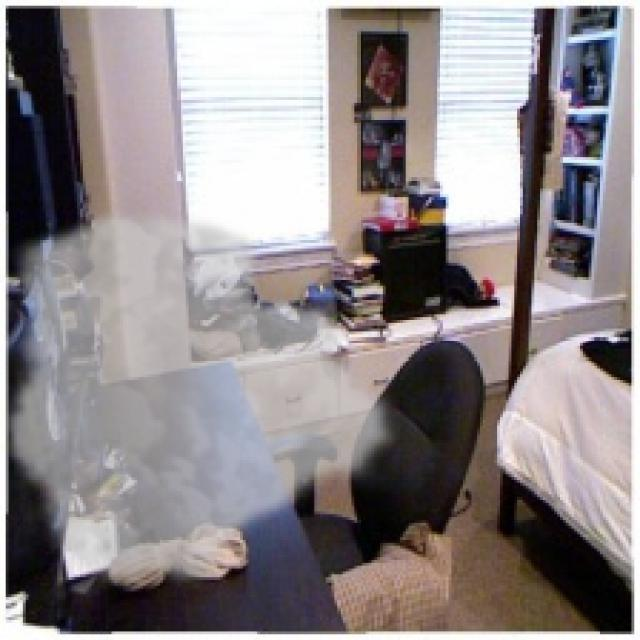Smoke: (0, 202, 400, 598)
